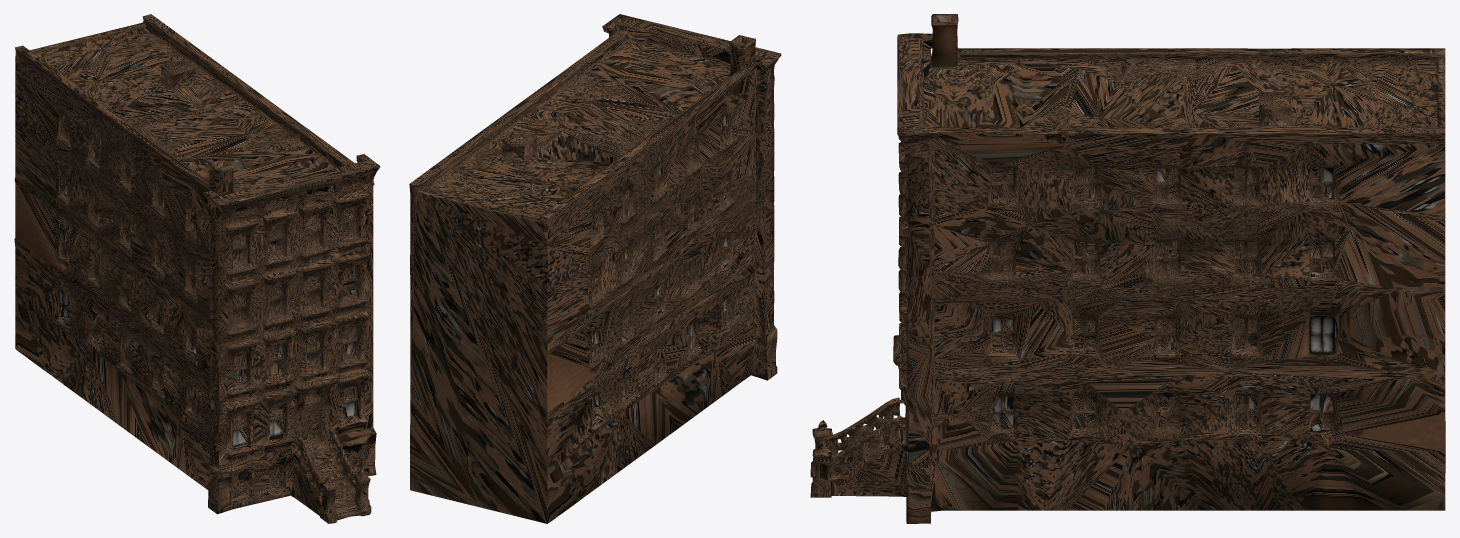
Rendered from semantic-primitive-v01.fbx.
The picture shows the model from 3 angles, left to right: view 1: azimuth 30°, elevation 25°; view 2: azimuth 150°, elevation 25°; view 3: azimuth 270°, elevation 25°; orthographic projection. The views are drawn at different scales.
Visible parts, largest first — view 1: CF_PROXY_BUILDING_GENERATED; view 2: CF_PROXY_BUILDING_GENERATED; view 3: CF_PROXY_BUILDING_GENERATED.
Part boxes in pixels (x1=…): CF_PROXY_BUILDING_GENERATED: x1=14, y1=14, x2=380, y2=523; CF_PROXY_BUILDING_GENERATED: x1=409, y1=14, x2=781, y2=523; CF_PROXY_BUILDING_GENERATED: x1=810, y1=14, x2=1445, y2=523.
Size of the model in its own units: 760 by 1500 by 2051.
